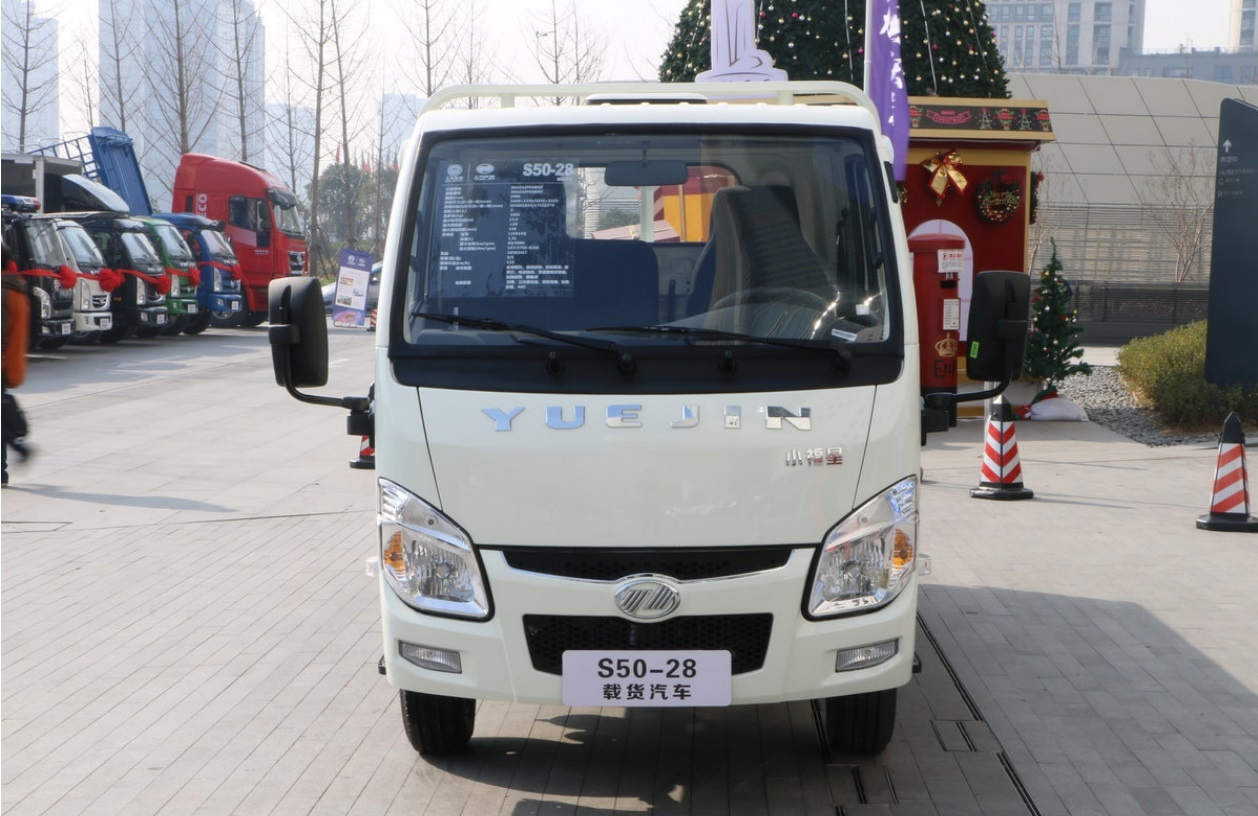truck: (277, 78, 961, 780)
